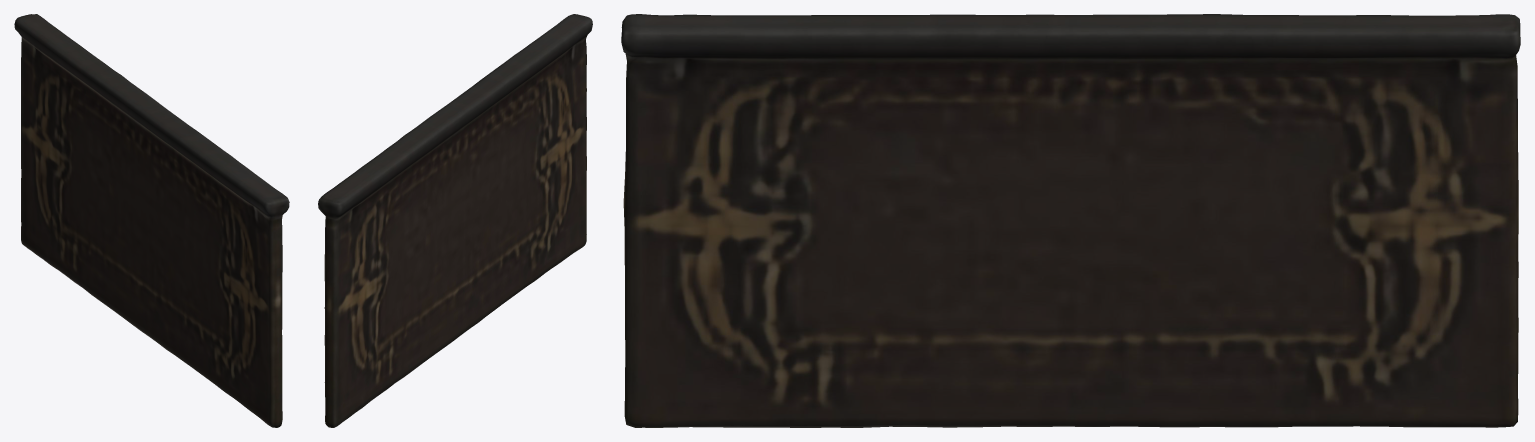
Rendered from d15d71f52fec_8b46f8bbbc72_Wall_with_luxurious.glb.
The picture shows the model from 3 angles, left to right: view 1: azimuth 30°, elevation 25°; view 2: azimuth 150°, elevation 25°; view 3: azimuth 270°, elevation 25°; orthographic projection. The views are drawn at different scales.
Visible parts, largest first — view 1: mesh; view 2: mesh; view 3: mesh.
Part boxes in pixels (left/top/right/bottom): mesh: left=14, top=14, right=289, bottom=427; mesh: left=318, top=14, right=592, bottom=427; mesh: left=621, top=14, right=1520, bottom=427.
Bounding box in the file's own units: 0.0547 × 0.4966 × 0.9991.
Materials: 1 (1 with a texture image).
